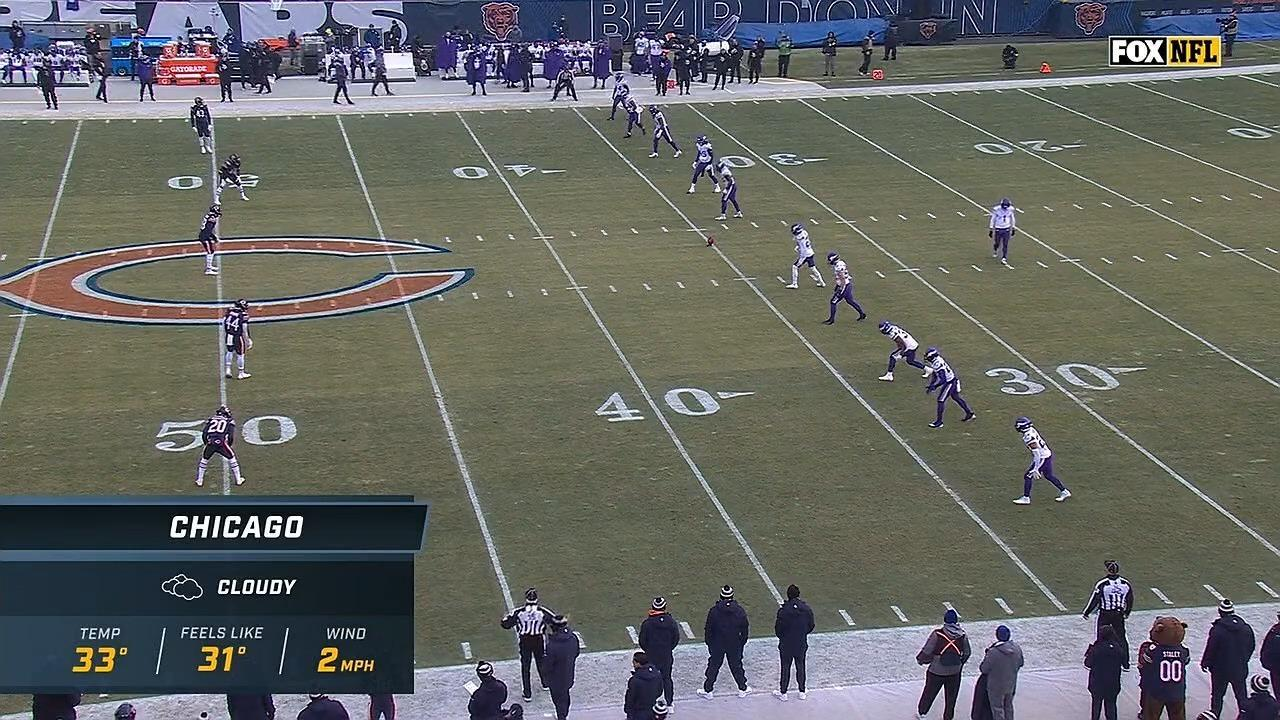20R: (974, 140, 1087, 156)
30R: (984, 362, 1146, 396), (719, 151, 830, 168)
40R: (595, 386, 756, 422), (452, 164, 568, 179)
50: (155, 414, 298, 451), (168, 172, 260, 190)
